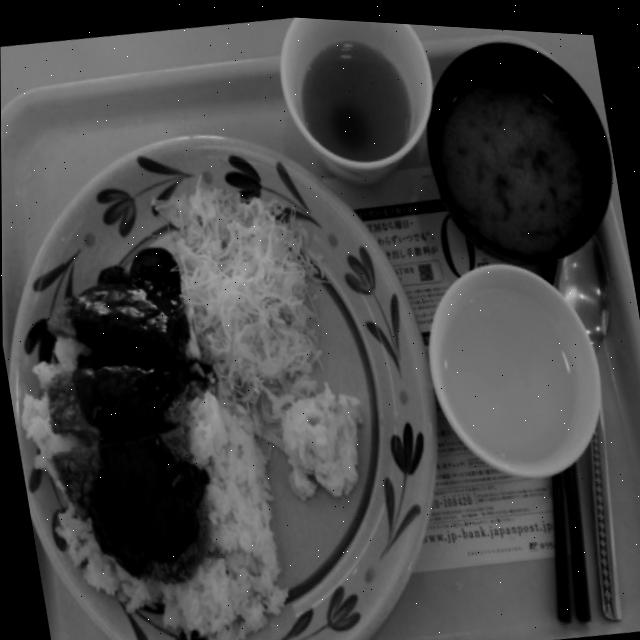汤锅炖物: (405, 19, 629, 278)
猪肉菜式: (1, 219, 295, 640)
蔬菜料理: (149, 147, 347, 432), (262, 366, 383, 510)
